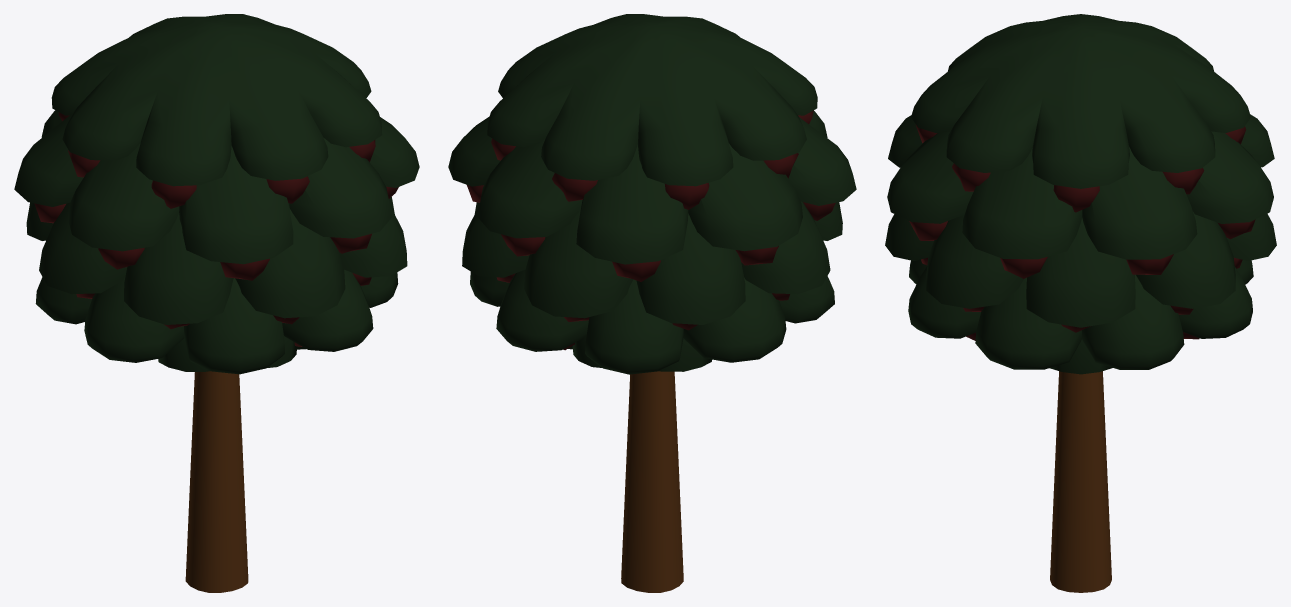
File: Tree_Fruit.obj
3 renders of one model, left to right at view 1: azimuth 30°, elevation 25°; view 2: azimuth 150°, elevation 25°; view 3: azimuth 270°, elevation 25°, orthographic.
Parts seen in each view (by area): view 1: Tree_Fruit_Cube.075; view 2: Tree_Fruit_Cube.075; view 3: Tree_Fruit_Cube.075.
Part boxes in pixels (x1,y1,x2,y2): Tree_Fruit_Cube.075: (14,14,419,592); Tree_Fruit_Cube.075: (448,14,856,592); Tree_Fruit_Cube.075: (885,14,1276,592).
Size of the model in its own units: 5.53 by 8.63 by 5.55.
